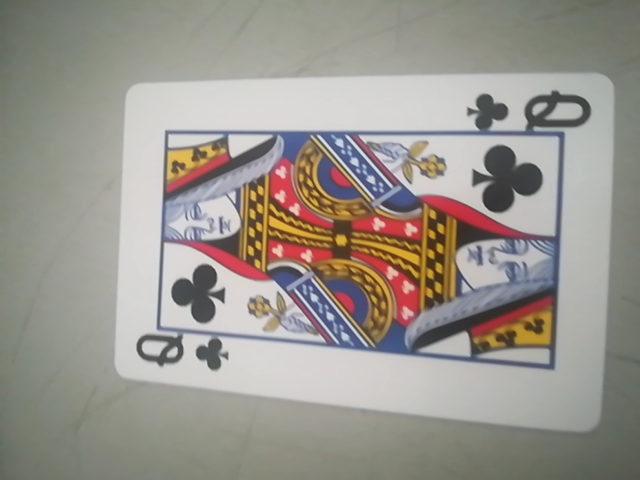mh q: (111, 73, 622, 432)
